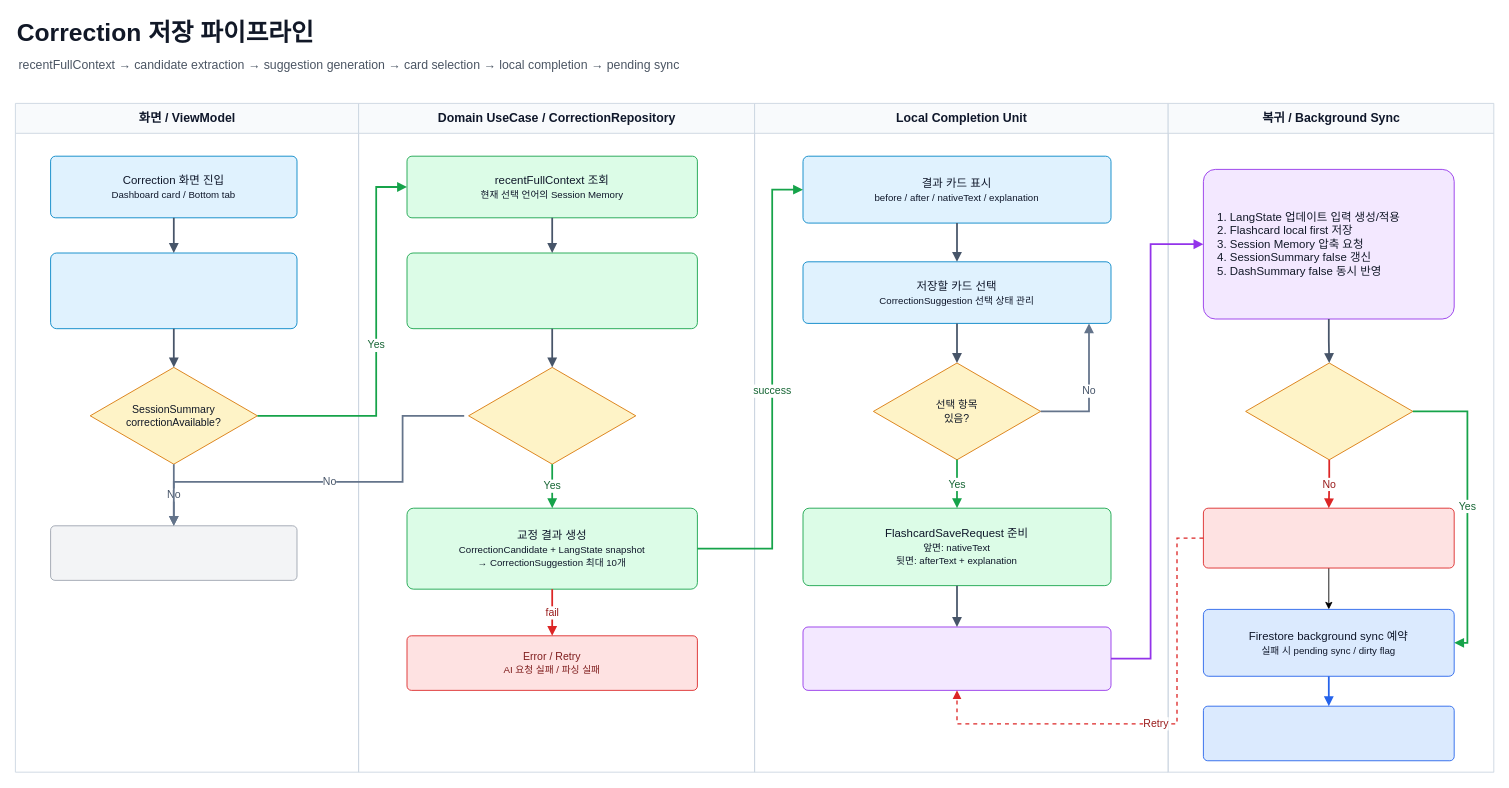
This 1509x788 diagram has some shape labels left out. Each missing label, with the centre of its shape:
"CompleteCorrectionUseCase local completion pipeline 시작" belongs at pixel 956 658.
"CorrectionCandidate 있음?" belongs at pixel 552 415.
"Dashboard 복귀 최신 DashSummary 기준 재렌더링" belongs at pixel 1328 733.
"Empty 교정 불가 / 세션 없음" belongs at pixel 173 552.
"Rollback + Retry 부분 완료 상태를 남기지 않음" belongs at pixel 1328 537.
"모든 local step 성공?" belongs at pixel 1329 411.
"초기 상태 로드 selectedLearningLanguage SessionSummary / LangState snapshot" belongs at pixel 173 290.
"후보 내부 추출 최근 100턴 제한 user turn 중심 + 필요한 assistant 문맥" belongs at pixel 551 290.
